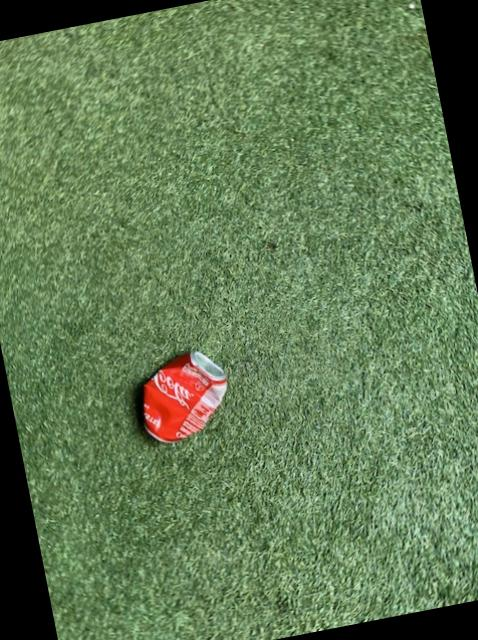metal: (144, 348, 227, 440)
